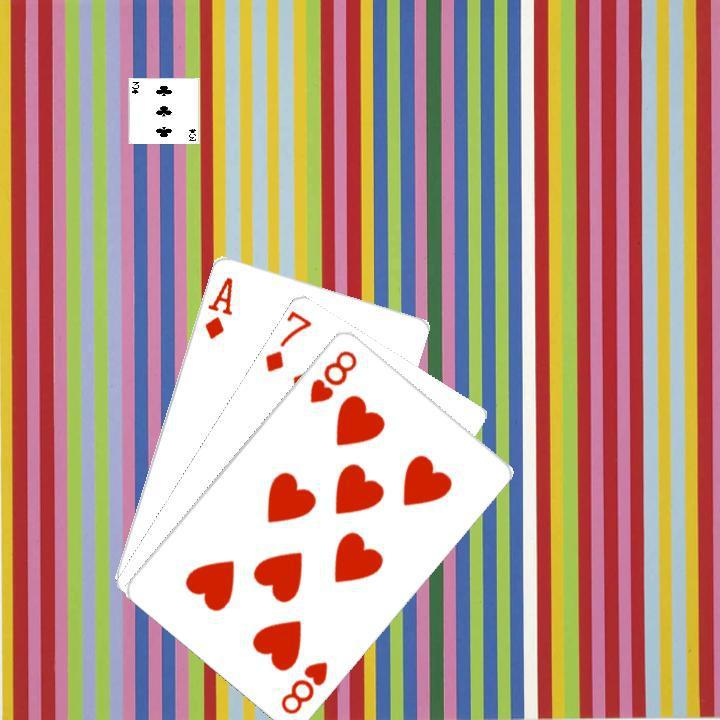7: (260, 307, 314, 374)
8: (305, 345, 360, 405), (276, 656, 330, 716)
A: (200, 272, 235, 341)
